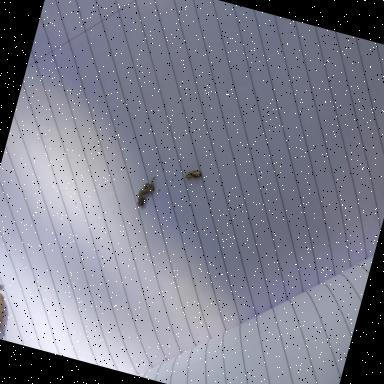pbw: (136, 174, 158, 202), (182, 166, 202, 184)
